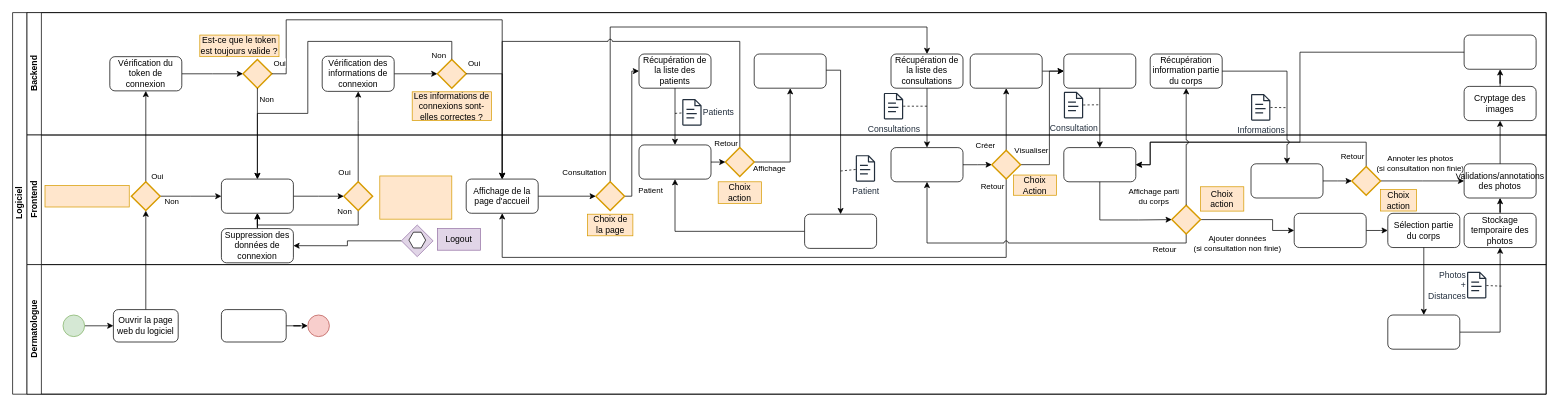
The diagram is 1559 pixels wide and 407 high, and some of its shapes have lost their labels. Here are the shapes that lost their labels. From the top down, the centre of each, then its label:
pixel 789 70: Récupération des détails du patient
pixel 1005 70: Création de la consultation
pixel 1099 70: Récupération information consultation
pixel 1499 51: Stockage permanent des photos
pixel 674 161: Affichage des patients
pixel 926 164: Affichage des consultations
pixel 1099 164: Affichage de la consultation
pixel 1286 180: Affichage des informations
pixel 86 196: L'utilisateur a-t-il un token de connexion ?
pixel 257 195: Affichage de la page de login
pixel 415 197: L'utilisateur a-t-il rentré les informations de connexion ?
pixel 840 230: Affichage du détail du patient
pixel 1329 230: Ajout de données pour la consultation
pixel 253 325: Fermeture de la page web
pixel 1423 331: Prise de photos en utilisant le boitier externe
